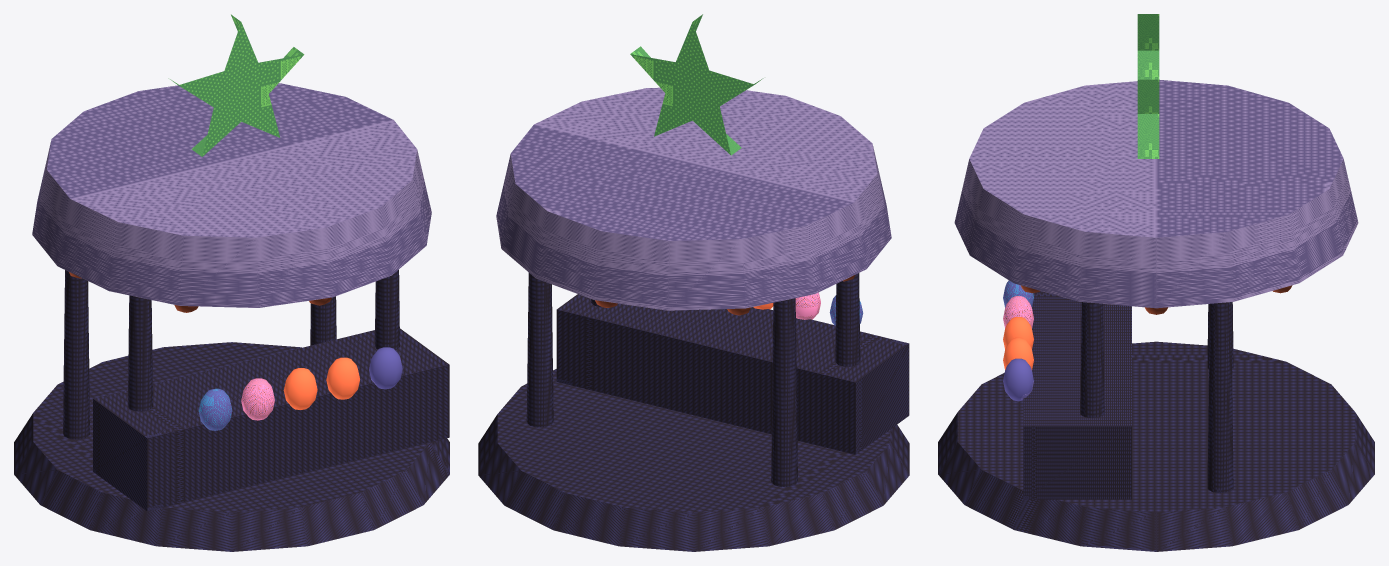
File: batiment-etoile.glb
3 views of the same model, side by side, from view 1: azimuth 30°, elevation 25°; view 2: azimuth 150°, elevation 25°; view 3: azimuth 270°, elevation 25° (orthographic).
Parts seen in each view (by area): view 1: Canopy, Counter, Deck, TopStar, Post0, Post2, Post3, StarBottle0, StarBottle3, StarBottle4, StarBottle1, StarBottle2 (+1 smaller); view 2: Canopy, Deck, Counter, TopStar, Post0, Post1, Post2, StarBottle1; view 3: Canopy, Deck, Counter, Post1, TopStar, Post3, StarBottle4, StarBottle3, StarBottle2, StarBottle1.
Boxes of the visible parts, x1,y1,x2,y2 form: Canopy: [32, 83, 431, 307]; Counter: [93, 328, 449, 511]; Deck: [14, 342, 449, 551]; TopStar: [168, 14, 304, 156]; Post0: [63, 270, 89, 439]; Post2: [128, 295, 152, 411]; Post3: [374, 270, 399, 349]; StarBottle0: [198, 388, 232, 430]; StarBottle3: [326, 357, 359, 399]; StarBottle4: [369, 347, 402, 389]; StarBottle1: [241, 378, 274, 420]; StarBottle2: [283, 368, 317, 409]; Canopy: [496, 87, 891, 310]; Deck: [478, 369, 909, 551]; Counter: [556, 294, 909, 454]; TopStar: [630, 14, 763, 155]; Post0: [771, 298, 797, 486]; Post1: [526, 272, 553, 427]; Post2: [835, 273, 860, 366]; StarBottle1: [795, 292, 820, 319]; Canopy: [954, 79, 1358, 308]; Deck: [938, 341, 1374, 551]; Counter: [1023, 291, 1131, 499]; Post1: [1207, 302, 1233, 493]; TopStar: [1137, 14, 1159, 158]; Post3: [1080, 302, 1104, 418]; StarBottle4: [1003, 358, 1033, 401]; StarBottle3: [1003, 337, 1033, 369]; StarBottle2: [1003, 317, 1033, 349]; StarBottle1: [1003, 296, 1033, 328].
Bounding box in the file's own units: 4.7 × 5.2 × 4.63.
3 materials, 3 textured.
